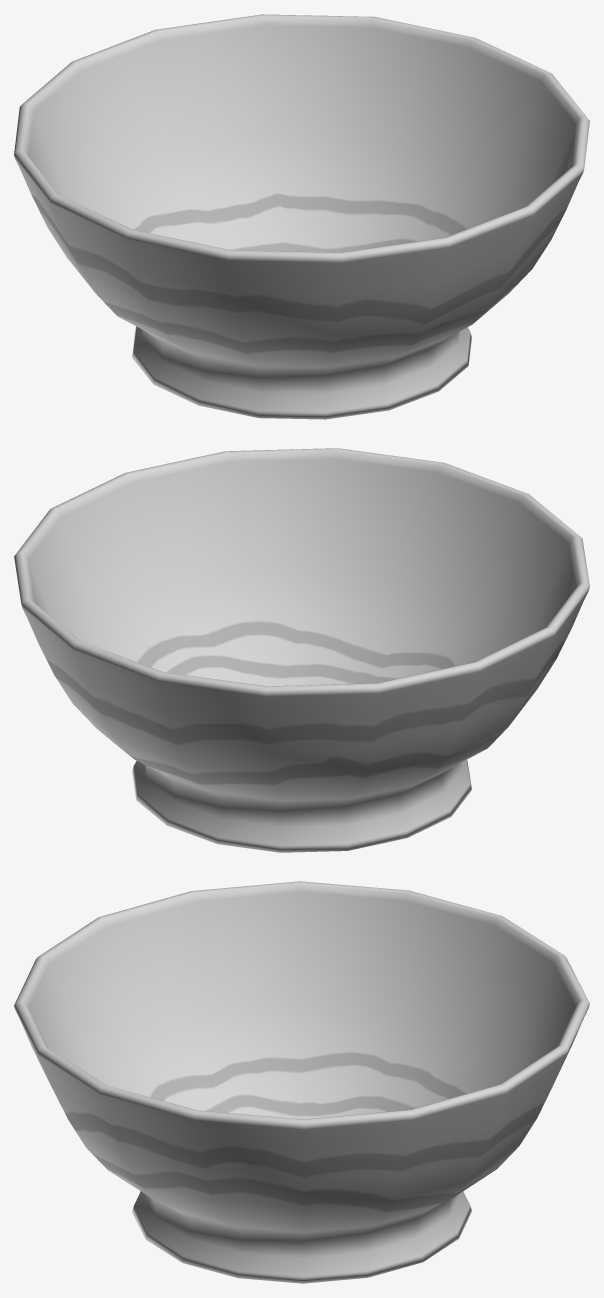
Rendered from Food_Empty_Ramen.fbx.
The picture shows the model from 3 angles, top to bottom: view 1: azimuth 30°, elevation 25°; view 2: azimuth 150°, elevation 25°; view 3: azimuth 270°, elevation 25°; orthographic projection.
Parts seen in each view (by area): view 1: Ramen_3; view 2: Ramen_3; view 3: Ramen_3.
Part boxes in pixels (x1,y1,x2,y2): Ramen_3: (14, 14, 589, 419); Ramen_3: (14, 448, 589, 852); Ramen_3: (14, 881, 589, 1283).
Bounding box in the file's own units: 33.11 × 13.53 × 33.11.
